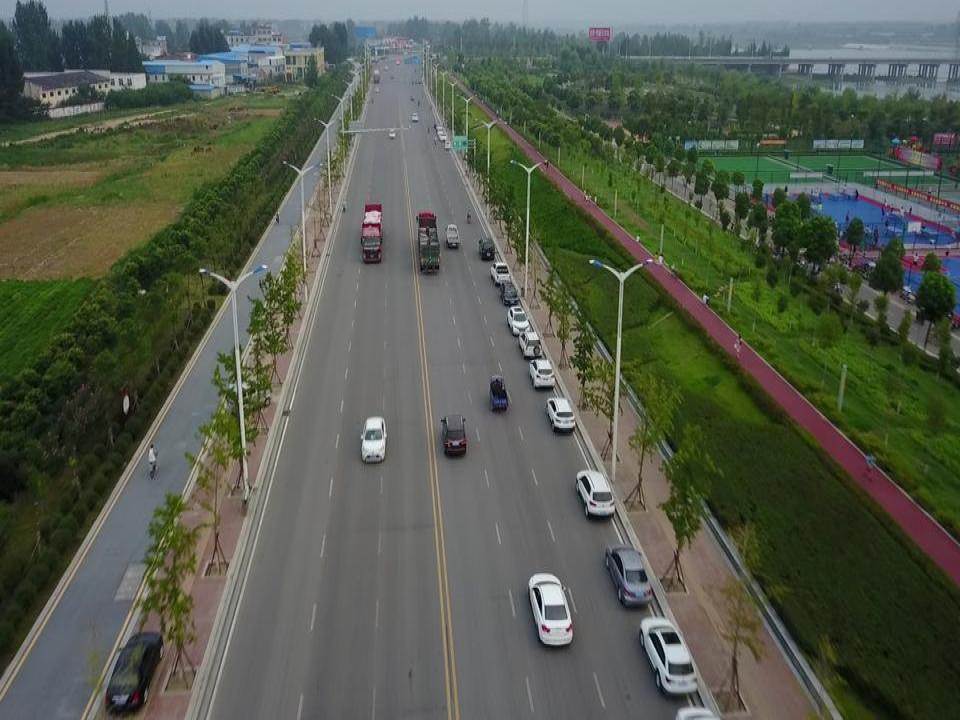car: (104, 632, 165, 713), (640, 613, 698, 696), (527, 569, 573, 647), (603, 541, 653, 608), (576, 467, 615, 521), (360, 416, 388, 463), (440, 412, 467, 457), (545, 397, 575, 435), (529, 356, 556, 392), (506, 304, 531, 335), (519, 328, 543, 359), (499, 283, 519, 305), (387, 124, 396, 137), (411, 112, 420, 121), (438, 132, 445, 143), (435, 121, 442, 131), (437, 126, 444, 134)
truck: (415, 211, 441, 277), (360, 200, 384, 263), (490, 258, 510, 282), (444, 223, 460, 248)
van: (224, 376, 273, 416), (477, 236, 496, 260)
